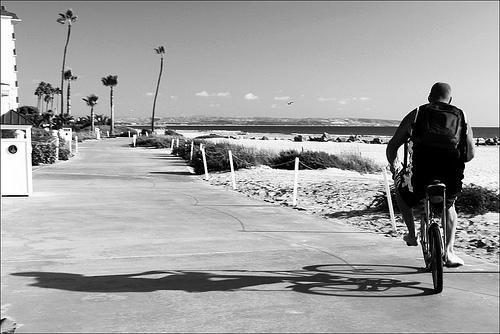bicycle: (417, 180, 448, 294)
